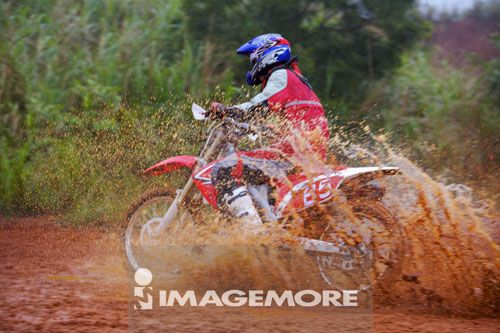helmet: (238, 34, 294, 75)
